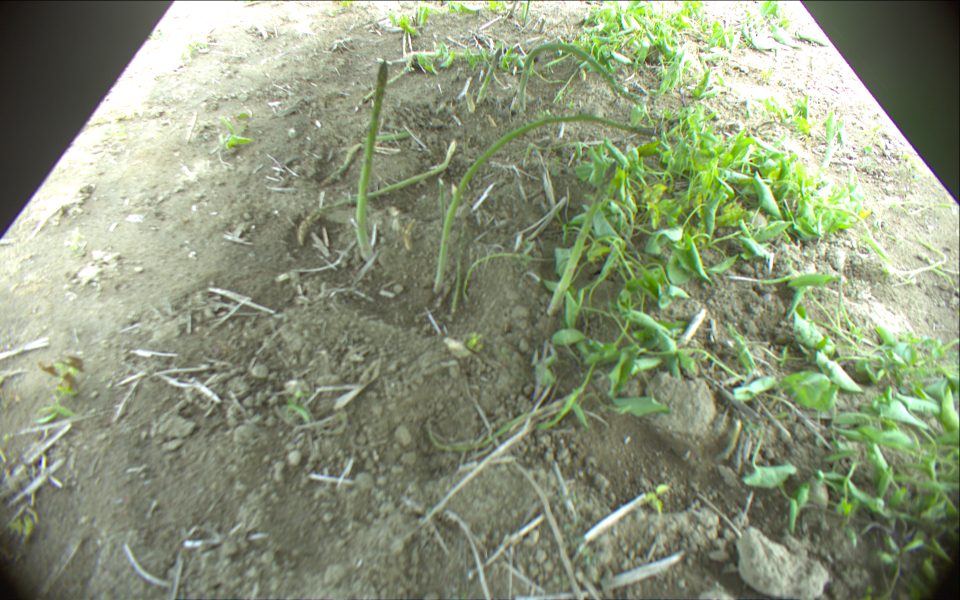aspa: (431, 114, 660, 295), (297, 140, 457, 244), (546, 161, 620, 313), (516, 41, 644, 109), (355, 61, 389, 260), (475, 47, 504, 103), (523, 1, 531, 24), (508, 1, 518, 19), (539, 17, 546, 32)
